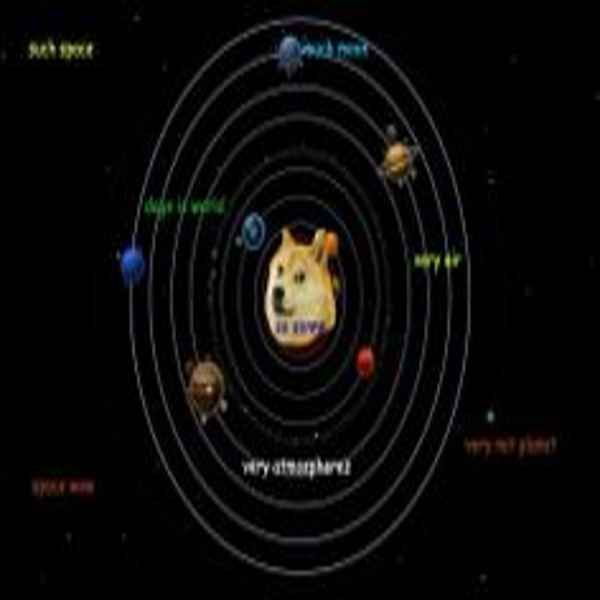doge: (249, 224, 349, 353)
